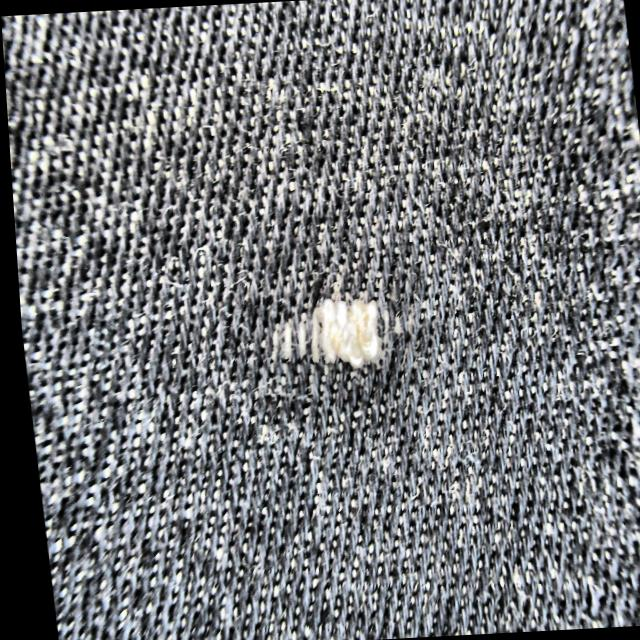Hole: (245, 245, 413, 401)
